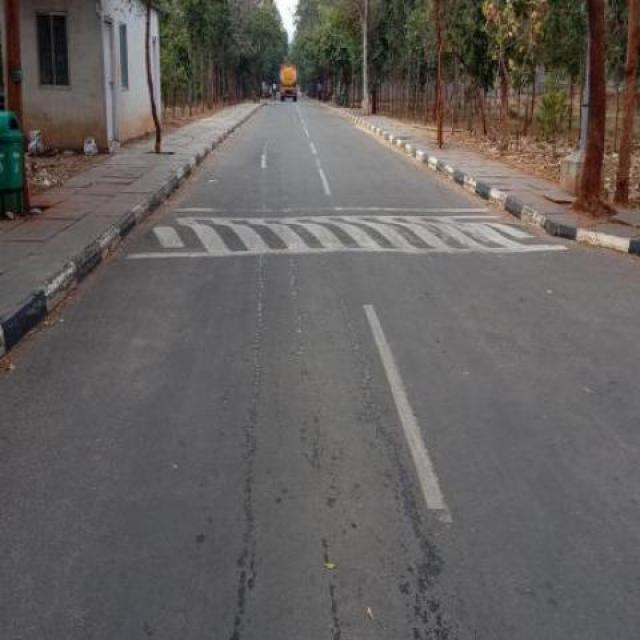Speed Bump: (140, 202, 570, 255)
